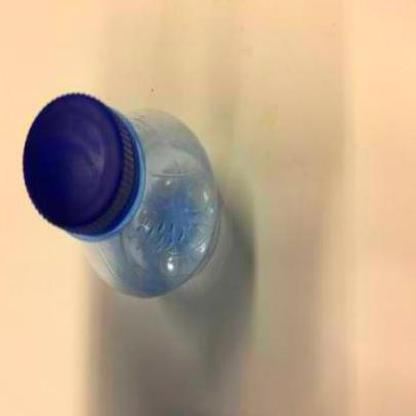plastic bottle: (21, 91, 222, 299)
